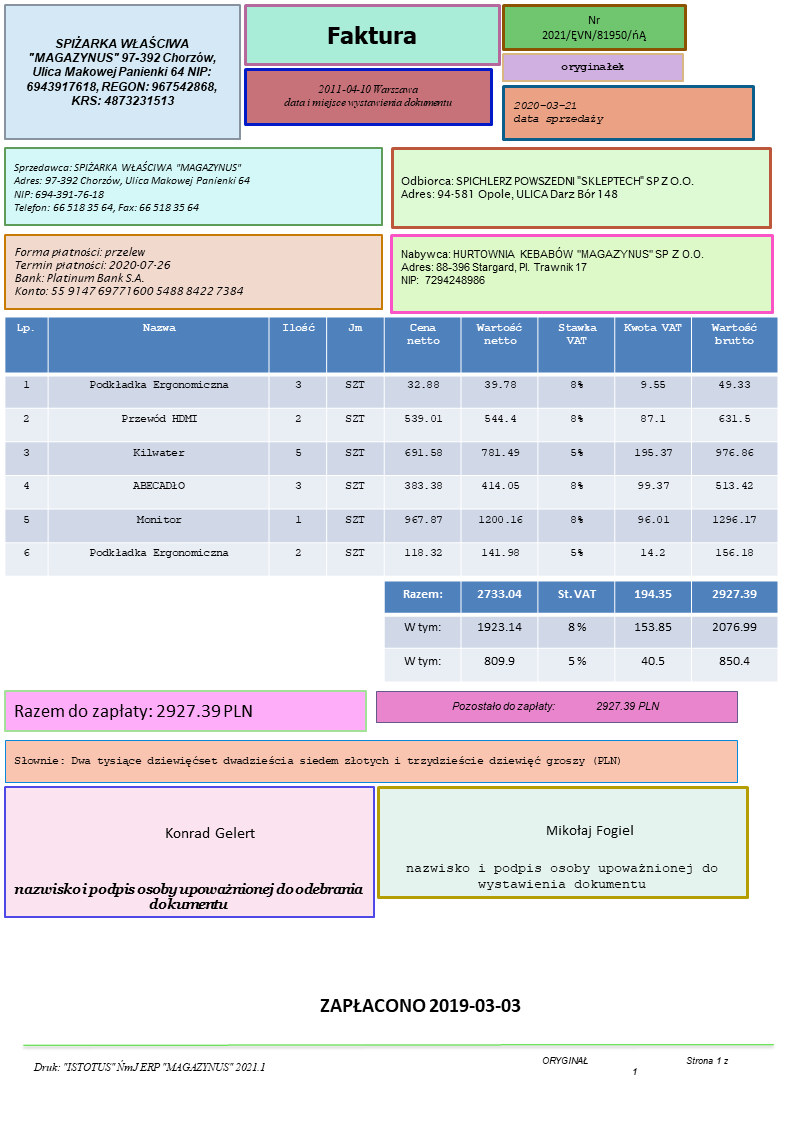Table: (3, 315, 778, 577), (383, 581, 777, 682)
TextBox: (23, 33, 222, 110), (11, 156, 251, 215), (397, 245, 706, 288), (11, 244, 247, 299), (9, 877, 367, 912), (11, 751, 621, 769), (402, 859, 722, 893), (398, 172, 696, 203), (11, 699, 254, 722), (538, 1051, 733, 1079), (317, 992, 523, 1018), (282, 80, 454, 111), (31, 1056, 268, 1077), (449, 697, 662, 715), (539, 12, 650, 45), (510, 97, 604, 129), (323, 21, 419, 50), (543, 821, 637, 841), (160, 822, 258, 841), (558, 57, 624, 75)
